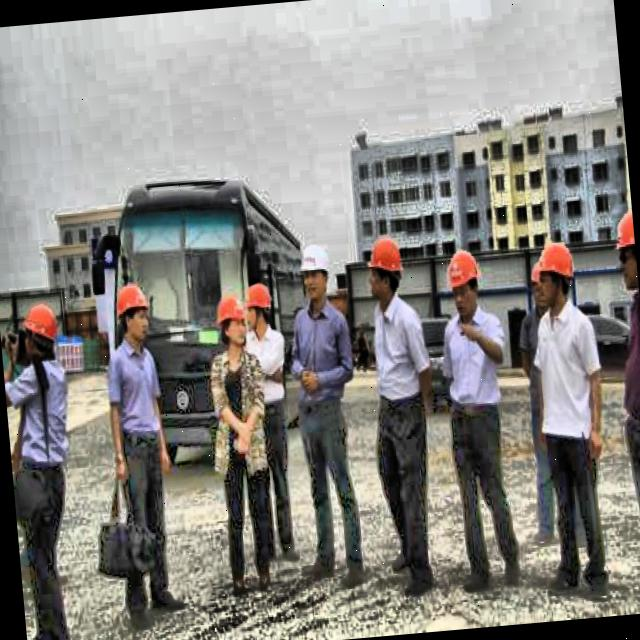helmet: (441, 244, 487, 324), (532, 238, 578, 316), (16, 294, 63, 366), (362, 232, 404, 310), (111, 280, 156, 350), (610, 194, 638, 297), (292, 240, 332, 308), (239, 277, 278, 339), (212, 293, 250, 351)
